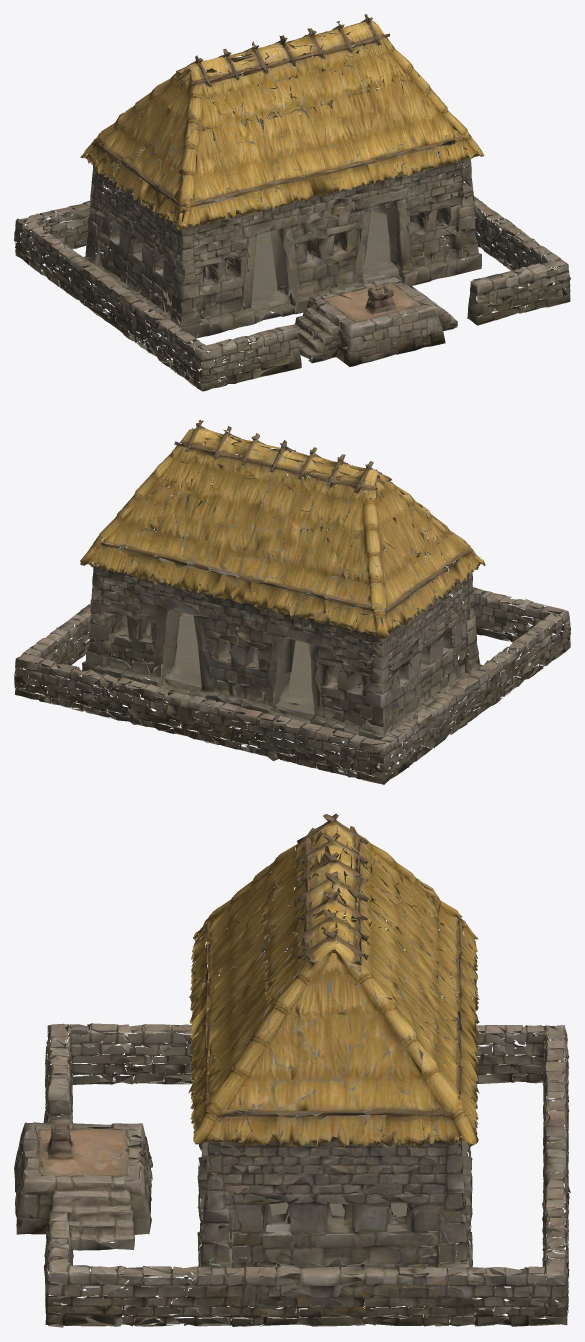
File: tawantinsuyu_centro.glb
3 renders of one model, top to bottom at view 1: azimuth 30°, elevation 25°; view 2: azimuth 150°, elevation 25°; view 3: azimuth 270°, elevation 25°, orthographic. The views are drawn at different scales.
Parts seen in each view (by area): view 1: Mesh_0; view 2: Mesh_0; view 3: Mesh_0.
Part boxes in pixels (left/top/right/bottom): Mesh_0: left=14, top=14, right=570, bottom=391; Mesh_0: left=14, top=420, right=570, bottom=784; Mesh_0: left=14, top=813, right=570, bottom=1327.
Size of the model in its own units: 1.91 by 1.19 by 1.77.
1 material, 1 textured.
